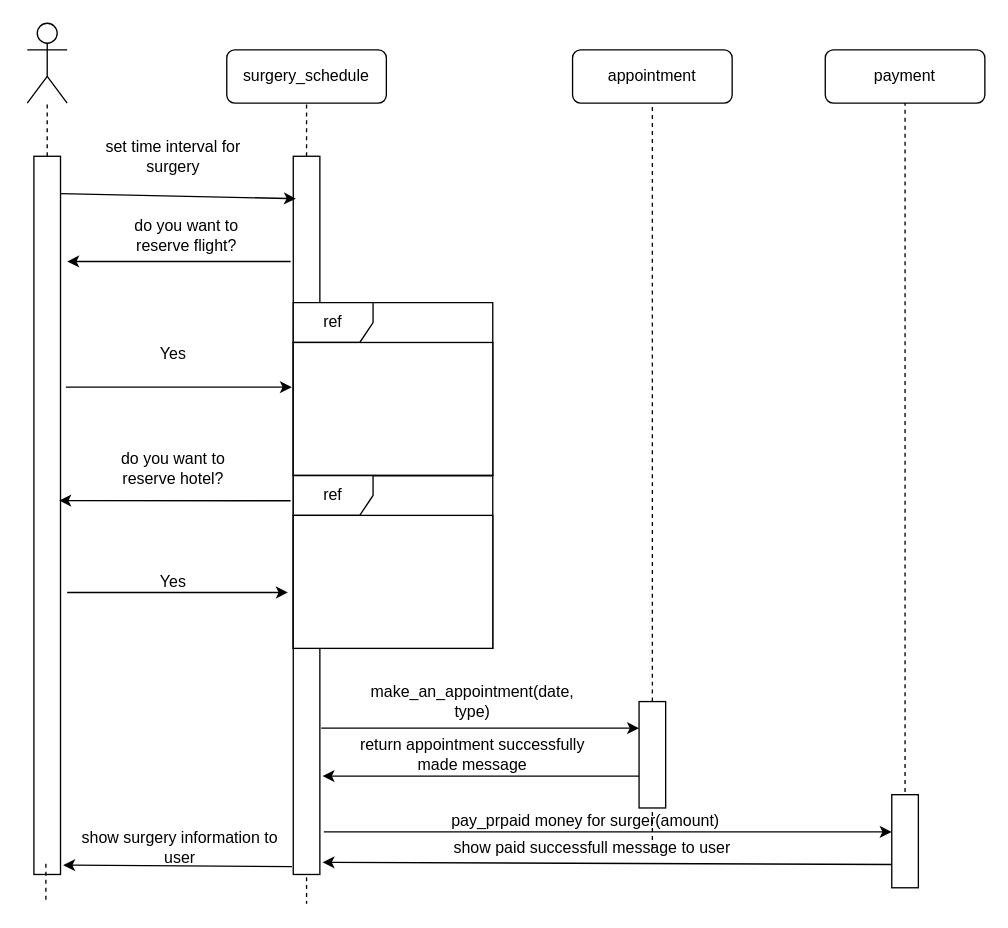
Some shapes in this 1008 by 928 pixel diagram are drawn without their labels. Here are the shapes that lost their labels. From the top down, the box of each, then its label:
(26, 22, 67, 103): patient
(292, 341, 493, 475): reserve_flight_sequence_diagram( date, city)
(292, 514, 493, 648): reserve_hotel_sequence_diagram( date, city)
